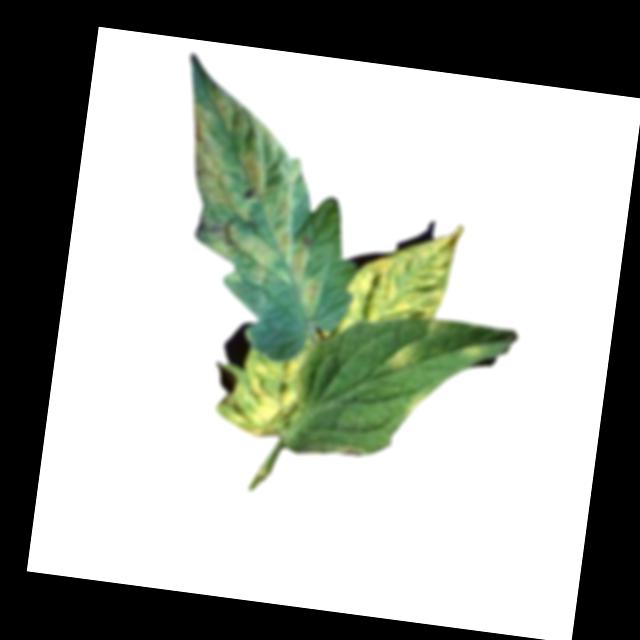Leaf_Mold: (171, 85, 346, 322), (337, 211, 466, 347), (215, 334, 314, 442), (401, 380, 437, 420), (380, 336, 415, 374), (453, 332, 489, 362)
